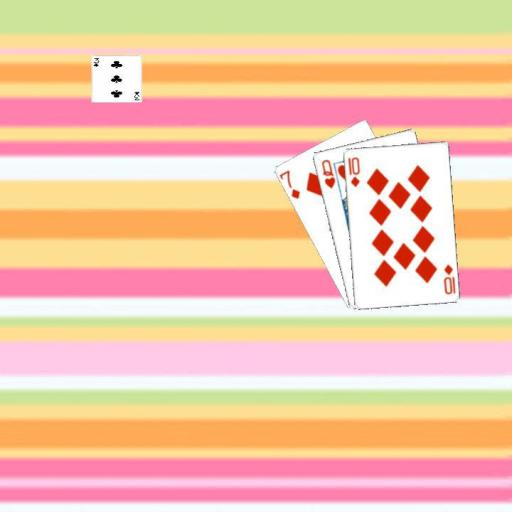10D: (440, 261, 457, 296), (344, 154, 361, 188)
7D: (277, 167, 302, 201)
QH: (318, 156, 336, 190)
